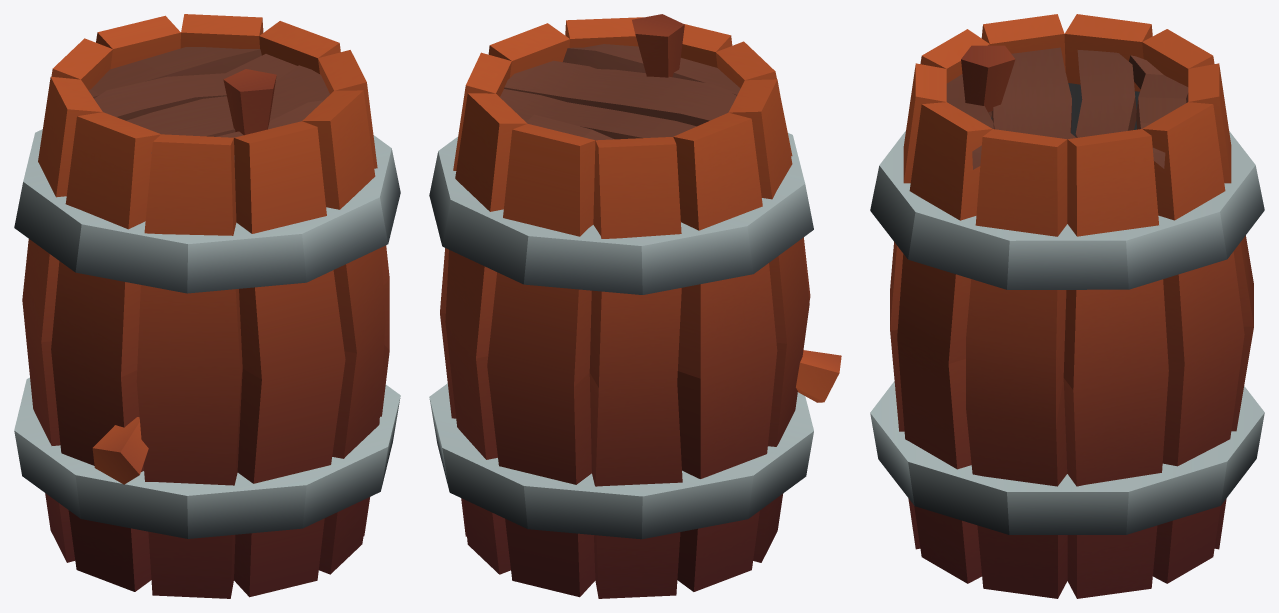
File: M_barrel.fbx
3 views of the same model, side by side, from view 1: azimuth 30°, elevation 25°; view 2: azimuth 150°, elevation 25°; view 3: azimuth 270°, elevation 25° (orthographic).
Parts seen in each view (by area): view 1: barrel; view 2: barrel; view 3: barrel.
Part boxes in pixels (left/top/right/bottom): barrel: left=14, top=14, right=400, bottom=598; barrel: left=429, top=14, right=841, bottom=598; barrel: left=870, top=14, right=1264, bottom=598.
Bounding box in the file's own units: 99.54 × 135 × 100.
